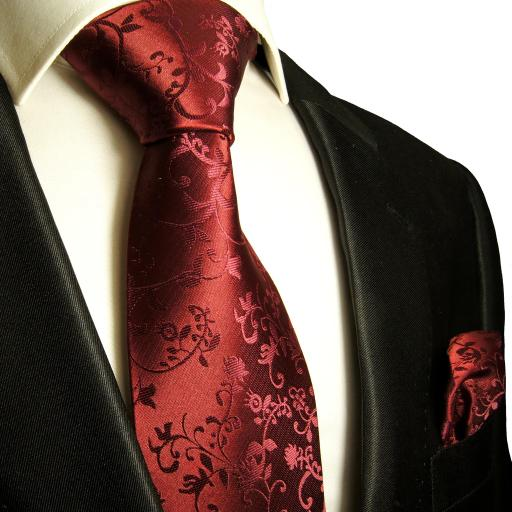tie: (58, 1, 326, 511)
